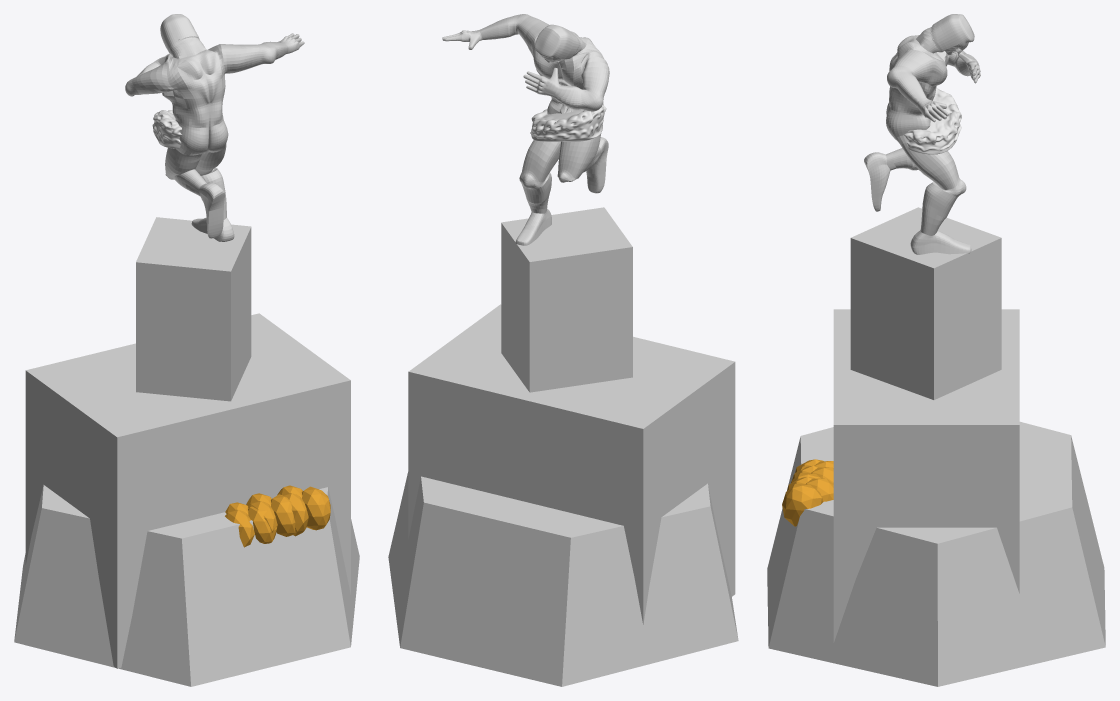
Rendered from Atlas Sneezing3.fbx.
3 renders of one model, left to right at view 1: azimuth 30°, elevation 25°; view 2: azimuth 150°, elevation 25°; view 3: azimuth 270°, elevation 25°, orthographic.
Visible parts, largest first — view 1: Circle, Body - Modifiers, Icosphere.003, cloth.; view 2: Circle, Body - Modifiers, cloth.; view 3: Circle, Body - Modifiers, Icosphere.003, cloth..
Boxes of the visible parts, left/top/right/bottom form: Circle: left=14, top=217, right=359, bottom=686; Body - Modifiers: left=125, top=14, right=304, bottom=241; Icosphere.003: left=225, top=485, right=330, bottom=547; cloth.: left=152, top=110, right=182, bottom=148; Circle: left=388, top=207, right=738, bottom=686; Body - Modifiers: left=442, top=14, right=609, bottom=245; cloth.: left=530, top=105, right=606, bottom=141; Circle: left=767, top=207, right=1105, bottom=686; Body - Modifiers: left=864, top=14, right=980, bottom=254; Icosphere.003: left=782, top=459, right=833, bottom=526; cloth.: left=904, top=88, right=961, bottom=154.
Bounding box in the file's own units: 628 × 1009 × 523.
